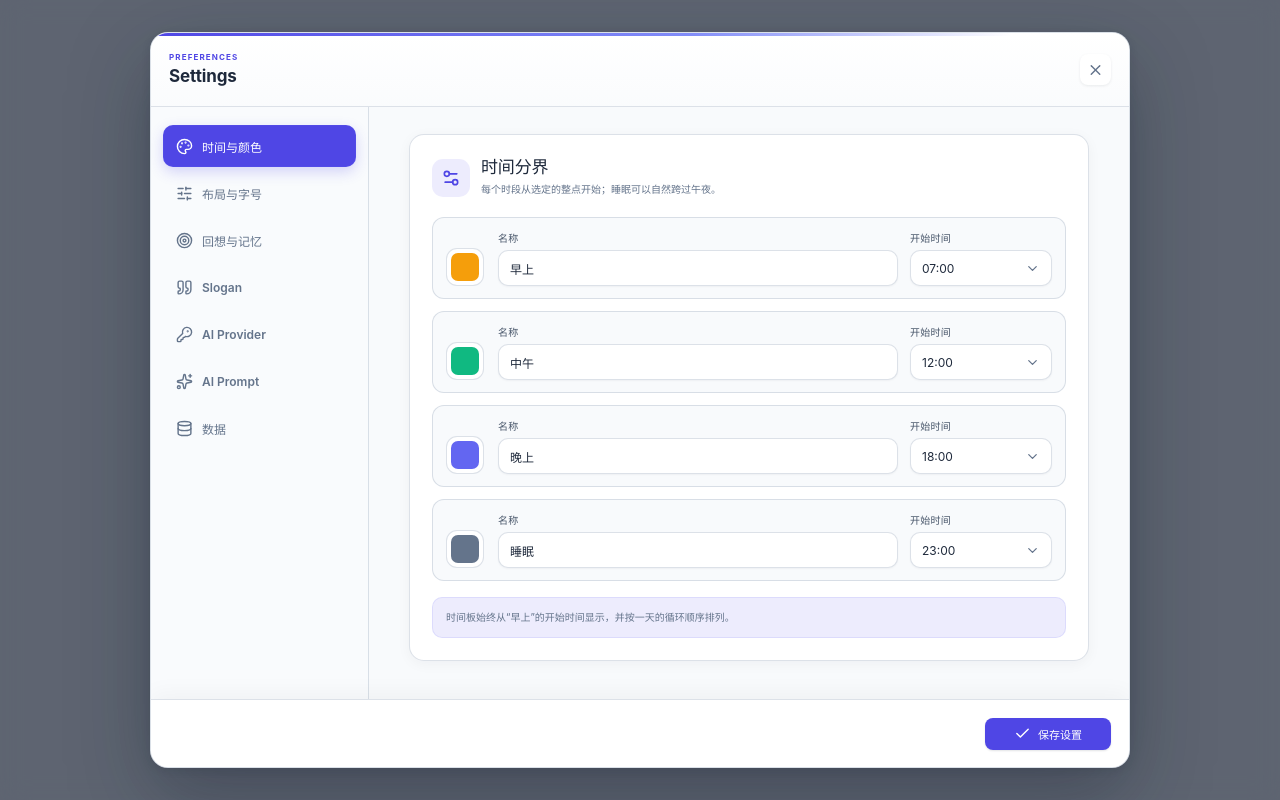
Scenario: SettingsPanel selects › keeps the settings dialog open when Escape only dismisses a select menu
Step 1. Click the button named "早上开始时间" → [981, 268], box [910,250,1052,286]
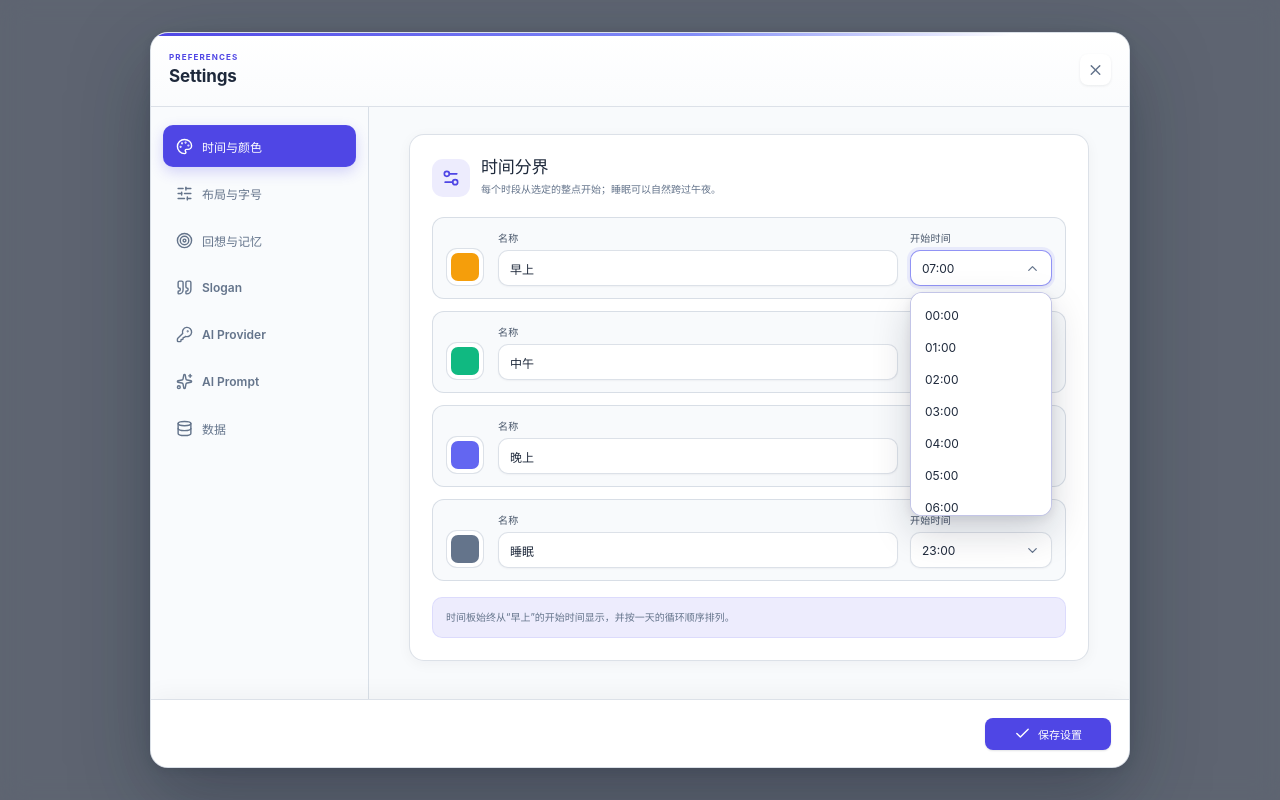
Step 2. Press Escape in the button named "早上开始时间", box [910,250,1052,286]
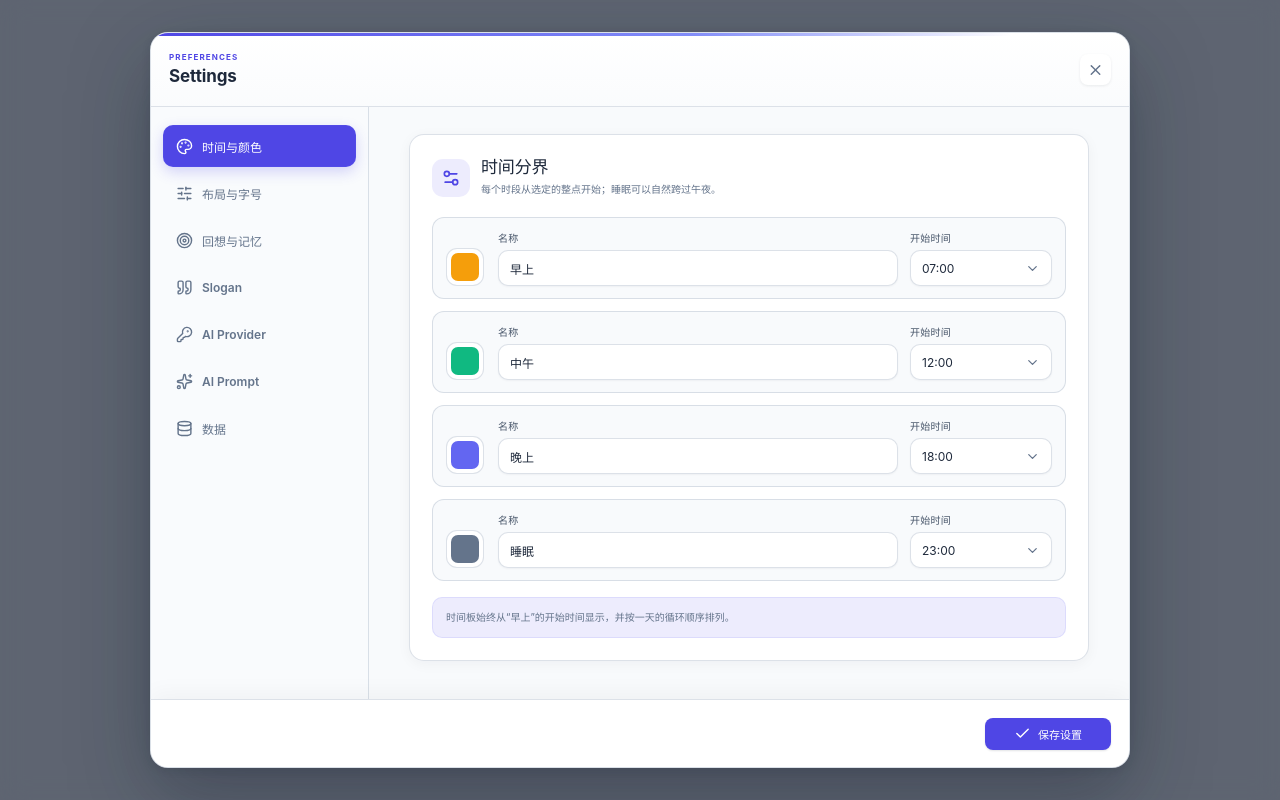
expect the list is gone: met
